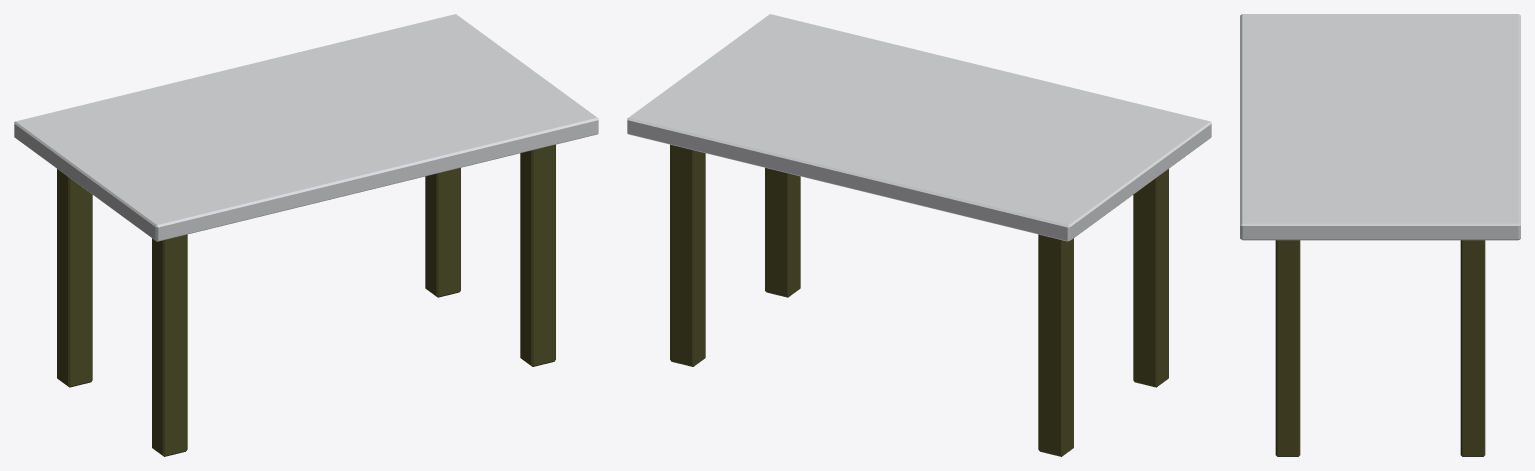
Rendered from desk.fbx.
3 renders of one model, left to right at view 1: azimuth 30°, elevation 25°; view 2: azimuth 150°, elevation 25°; view 3: azimuth 270°, elevation 25°, orthographic. The views are drawn at different scales.
Parts seen in each view (by area): view 1: table; view 2: table; view 3: table.
Boxes of the visible parts, x1,y1,x2,y2 form: table: (14, 14, 598, 456); table: (627, 14, 1211, 456); table: (1240, 14, 1520, 456).
Size of the model in its own units: 528 by 286 by 297.
